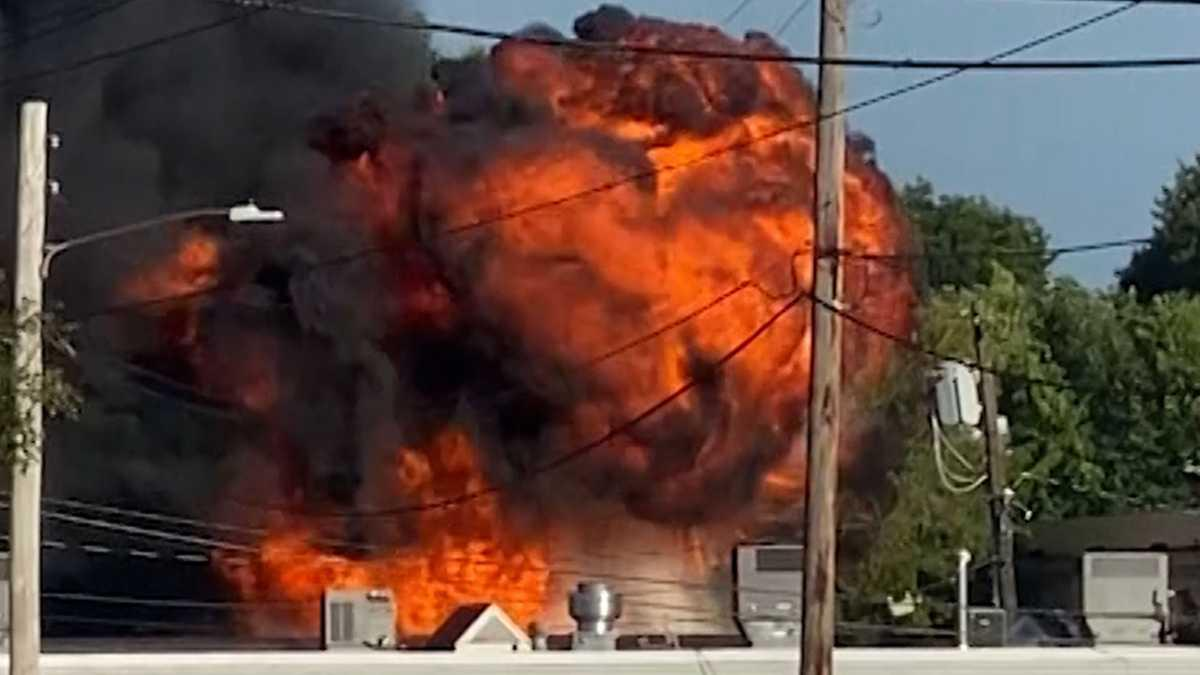fire: (138, 64, 845, 611)
